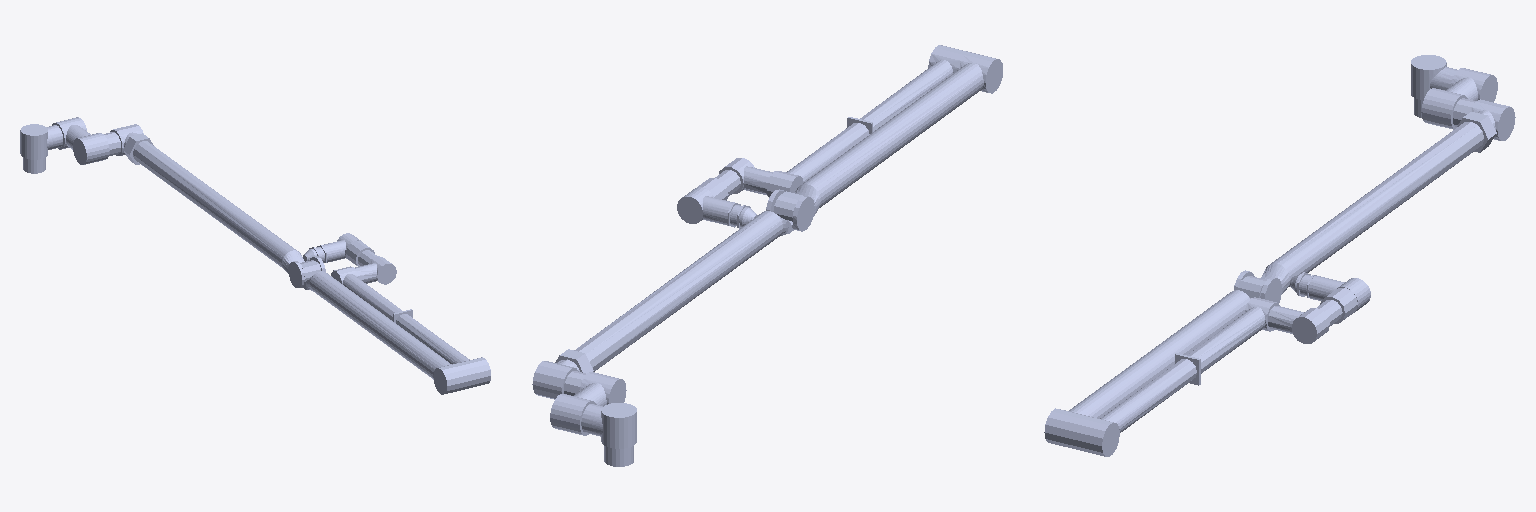
URDF robot description (bean2):
<?xml version="1.0" encoding="utf-8"?>
<!-- This URDF was automatically created by SolidWorks to URDF Exporter! Originally created by Stephen Brawner (brawner@gmail.com) 
     Commit Version: 1.6.0-4-g7f85cfe  Build Version: 1.6.7995.38578
     For more information, please see http://wiki.ros.org/sw_urdf_exporter -->
<robot name="bean2">
  <!-- adding fixed frame link for gazebo -->
  <link name="world"/>

<!-- Virtual Joint to fixate/move robot -->
  <joint name="fixedFrameToWorld" type="fixed">
    <parent link="world"/>
    <child link="base_link"/>
    <origin rpy="0.0 0.0 0.0" xyz="0.0 0.0 0.0"/>
  </joint>
  
  <!-- Basic Extraterrestrial Articulated maNipulator2 (BEAN2) is defined-->
  <link
    name="base_link">
    <inertial>
      <origin
        xyz="0.0076403 -0.0077316 0.30748"
        rpy="0 0 0" />
      <mass
        value="140.69" />
      <inertia
        ixx="8.9233"
        ixy="-0.0083106"
        ixz="0.19212"
        iyy="8.9454"
        iyz="-0.18789"
        izz="5.5009" />
    </inertial>
    <visual>
      <origin
        xyz="0 0 0"
        rpy="0 0 0" />
      <geometry>
        <mesh
          filename="package://bean2/meshes/base_link.STL" />
      </geometry>
      <material
        name="">
        <color
          rgba="0.79216 0.81961 0.93333 1" />
      </material>
    </visual>
    <collision>
      <origin
        xyz="0 0 0"
        rpy="0 0 0" />
      <geometry>
        <mesh
          filename="package://bean2/meshes/base_link.STL" />
      </geometry>
    </collision>
  </link>
  <link
    name="link_one">
    <inertial>
      <origin
        xyz="0.23706 0.42192 0.17122"
        rpy="0 0 0" />
      <mass
        value="264.21" />
      <inertia
        ixx="32.206"
        ixy="-15.566"
        ixz="-2.4455"
        iyy="31.567"
        iyz="-3.4761"
        izz="53.733" />
    </inertial>
    <visual>
      <origin
        xyz="0 0 0"
        rpy="0 0 0" />
      <geometry>
        <mesh
          filename="package://bean2/meshes/link_one.STL" />
      </geometry>
      <material
        name="">
        <color
          rgba="0.79216 0.81961 0.93333 1" />
      </material>
    </visual>
    <collision>
      <origin
        xyz="0 0 0"
        rpy="0 0 0" />
      <geometry>
        <mesh
          filename="package://bean2/meshes/link_one.STL" />
      </geometry>
    </collision>
  </link>
  <joint
    name="joint_one"
    type="revolute">
    <origin
      xyz="0 0 0.875"
      rpy="0 0 -1.5708" />
    <parent
      link="base_link" />
    <child
      link="link_one" />
    <axis
      xyz="0 0 1" />
    <limit
      lower="-3.14"
      upper="3.14"
      effort="1300"
      velocity="0.3" />
    <dynamics
      damping="0.2"
      friction="0.2" />
  </joint>
  <link
    name="link_two">
    <inertial>
      <origin
        xyz="-2.4928 -0.0010823 0.17636"
        rpy="0 0 0" />
      <mass
        value="615.5" />
      <inertia
        ixx="12.815"
        ixy="-2.9324"
        ixz="10.247"
        iyy="1781.1"
        iyz="0.022231"
        izz="1779.4" />
    </inertial>
    <visual>
      <origin
        xyz="0 0 0"
        rpy="0 0 0" />
      <geometry>
        <mesh
          filename="package://bean2/meshes/link_two.STL" />
      </geometry>
      <material
        name="">
        <color
          rgba="0.79216 0.81961 0.93333 1" />
      </material>
    </visual>
    <collision>
      <origin
        xyz="0 0 0"
        rpy="0 0 0" />
      <geometry>
        <mesh
          filename="package://bean2/meshes/link_two.STL" />
      </geometry>
    </collision>
  </link>
  <joint
    name="joint_two"
    type="revolute">
    <origin
      xyz="0.67 1.035 0.21"
      rpy="1.5708 0 -3.1416" />
    <parent
      link="link_one" />
    <child
      link="link_two" />
    <axis
      xyz="0 0 1" />
    <limit
      lower="-3.14"
      upper="3.14"
      effort="1300"
      velocity="0.2" />
    <dynamics
      damping="0.2"
      friction="0.2" />
  </joint>
  <link
    name="link_three">
    <inertial>
      <origin
        xyz="2.2935 0.0014154 -0.018803"
        rpy="0 0 0" />
      <mass
        value="468.03" />
      <inertia
        ixx="9.0711"
        ixy="1.3435"
        ixz="5.0617"
        iyy="837.4"
        iyz="-0.01244"
        izz="836.79" />
    </inertial>
    <visual>
      <origin
        xyz="0 0 0"
        rpy="0 0 0" />
      <geometry>
        <mesh
          filename="package://bean2/meshes/link_three.STL" />
      </geometry>
      <material
        name="">
        <color
          rgba="0.79216 0.81961 0.93333 1" />
      </material>
    </visual>
    <collision>
      <origin
        xyz="0 0 0"
        rpy="0 0 0" />
      <geometry>
        <mesh
          filename="package://bean2/meshes/link_three.STL" />
      </geometry>
    </collision>
  </link>
  <joint
    name="joint_three"
    type="revolute">
    <origin
      xyz="-5.46 0 0.1875"
      rpy="0 0 3.1416" />
    <parent
      link="link_two" />
    <child
      link="link_three" />
    <axis
      xyz="0 0 -1" />
    <limit
      lower="-1.4"
      upper="2.44"
      effort="1000"
      velocity="0.2" />
    <dynamics
      damping="0.2"
      friction="0.2" />
  </joint>
  <link
    name="link_four">
    <inertial>
      <origin
        xyz="2.1783 7.8425E-07 -0.10837"
        rpy="0 0 0" />
      <mass
        value="443.02" />
      <inertia
        ixx="35.29"
        ixy="-0.00010298"
        ixz="113.09"
        iyy="1111.3"
        iyz="1.5385E-05"
        izz="1082" />
    </inertial>
    <visual>
      <origin
        xyz="0 0 0"
        rpy="0 0 0" />
      <geometry>
        <mesh
          filename="package://bean2/meshes/link_four.STL" />
      </geometry>
      <material
        name="">
        <color
          rgba="0.79216 0.81961 0.93333 1" />
      </material>
    </visual>
    <collision>
      <origin
        xyz="0 0 0"
        rpy="0 0 0" />
      <geometry>
        <mesh
          filename="package://bean2/meshes/link_four.STL" />
      </geometry>
    </collision>
  </link>
  <joint
    name="joint_four"
    type="revolute">
    <origin
      xyz="4.4 0 0.375"
      rpy="3.1416 0 3.1416" />
    <parent
      link="link_three" />
    <child
      link="link_four" />
    <axis
      xyz="0 0 -1" />
    <limit
      lower="-3.14"
      upper="3.14"
      effort="1000"
      velocity="0.2" />
    <dynamics
      damping="0.2"
      friction="0.2" />
  </joint>
  <link
    name="link_five">
    <inertial>
      <origin
        xyz="-1.2323E-07 0.10322 0.047186"
        rpy="0 0 0" />
      <mass
        value="65.693" />
      <inertia
        ixx="3.2326"
        ixy="2.9354E-06"
        ixz="-1.8121E-06"
        iyy="1.62"
        iyz="0.31997"
        izz="2.4339" />
    </inertial>
    <visual>
      <origin
        xyz="0 0 0"
        rpy="0 0 0" />
      <geometry>
        <mesh
          filename="package://bean2/meshes/link_five.STL" />
      </geometry>
      <material
        name="">
        <color
          rgba="0.79216 0.81961 0.93333 1" />
      </material>
    </visual>
    <collision>
      <origin
        xyz="0 0 0"
        rpy="0 0 0" />
      <geometry>
        <mesh
          filename="package://bean2/meshes/link_five.STL" />
      </geometry>
    </collision>
  </link>
  <joint
    name="joint_five"
    type="revolute">
    <origin
      xyz="4.835 0 -0.65"
      rpy="1.5708 0 -1.5708" />
    <parent
      link="link_four" />
    <child
      link="link_five" />
    <axis
      xyz="0 0 1" />
    <limit
      lower="-6.28"
      upper="6.28"
      effort="500"
      velocity="0.5" />
    <dynamics
      damping="0.1"
      friction="0.1" />
  </joint>
  <link
    name="link_six">
    <inertial>
      <origin
        xyz="-0.0031191 -0.0018008 -0.12806"
        rpy="0 0 0" />
      <mass
        value="13.062" />
      <inertia
        ixx="0.12452"
        ixy="-0.0028533"
        ixz="0.0017542"
        iyy="0.12781"
        iyz="0.0010128"
        izz="0.10261" />
    </inertial>
    <visual>
      <origin
        xyz="0 0 0"
        rpy="0 0 0" />
      <geometry>
        <mesh
          filename="package://bean2/meshes/link_six.STL" />
      </geometry>
      <material
        name="">
        <color
          rgba="0.79216 0.81961 0.93333 1" />
      </material>
    </visual>
    <collision>
      <origin
        xyz="0 0 0"
        rpy="0 0 0" />
      <geometry>
        <mesh
          filename="package://bean2/meshes/link_six.STL" />
      </geometry>
    </collision>
  </link>
  <joint
    name="joint_six"
    type="revolute">
    <origin
      xyz="0 0.5 0"
      rpy="-1.5708 0 3.1416" />
    <parent
      link="link_five" />
    <child
      link="link_six" />
    <axis
      xyz="0 0 -1" />
    <limit
      lower="-6.28"
      upper="6.28"
      effort="500"
      velocity="0.8" />
    <dynamics
      damping="0.1"
      friction="0.1" />
  </joint>
</robot>

--- Facts derived from the render (not from the file) ---
The picture shows the robot from 3 angles, left to right: view 1: azimuth 30°, elevation 25°; view 2: azimuth 150°, elevation 25°; view 3: azimuth 330°, elevation 25°; orthographic projection.
Robot: bean2 — 8 links, 7 joints (6 revolute, 1 fixed); root link world; default pose: every joint at zero.
Visible links, largest first — view 1: link_two, link_three, link_four, link_one, link_five; view 2: link_two, link_three, link_four, link_one, link_five; view 3: link_two, link_four, link_three, link_one, link_five.
Link boxes in pixels (left/top/right/bottom): link_two: left=104, top=124, right=325, bottom=287; link_three: left=300, top=260, right=469, bottom=394; link_four: left=331, top=241, right=490, bottom=388; link_one: left=20, top=117, right=109, bottom=173; link_five: left=317, top=233, right=360, bottom=262; link_two: left=532, top=189, right=814, bottom=399; link_three: left=773, top=52, right=1002, bottom=221; link_four: left=698, top=45, right=971, bottom=200; link_one: left=550, top=372, right=636, bottom=466; link_five: left=677, top=187, right=740, bottom=227; link_two: left=1234, top=98, right=1515, bottom=303; link_four: left=1073, top=288, right=1357, bottom=456; link_three: left=1044, top=276, right=1266, bottom=449; link_one: left=1411, top=55, right=1497, bottom=129; link_five: left=1306, top=275, right=1370, bottom=312.
Size in the robot's own frame: 2.63 by 10.95 by 0.67 metres.
6 mesh visuals loaded from 7 distinct referenced files (6 binary STL); not drawn: 1 (reference not matched to a file when rendering).
